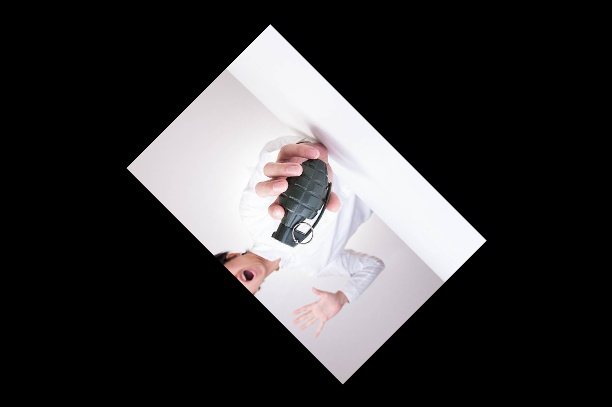e1: (271, 155, 331, 251)
